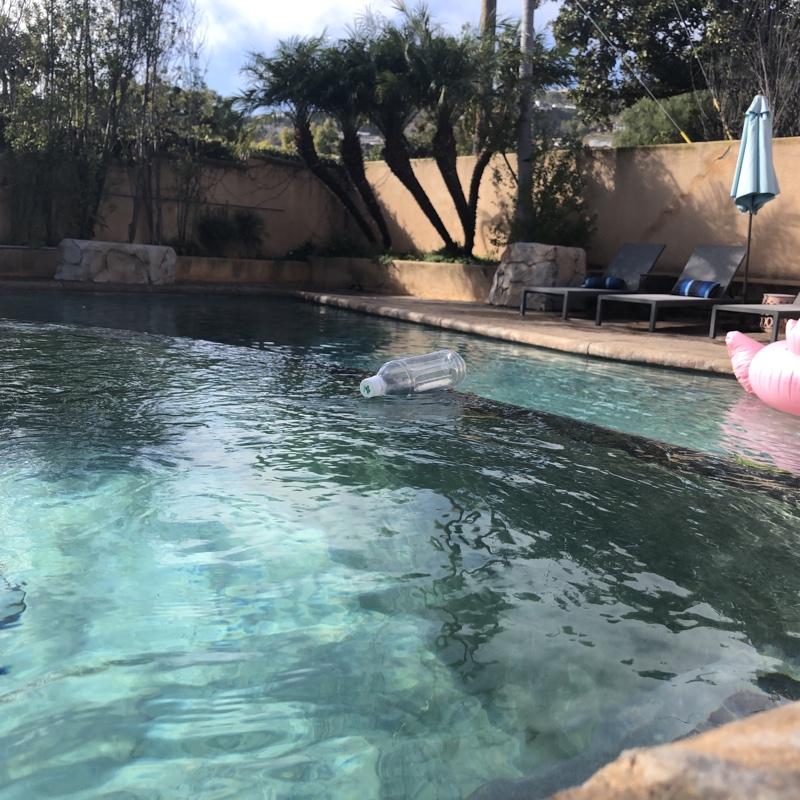Plastic Bottle: (358, 344, 470, 405)
